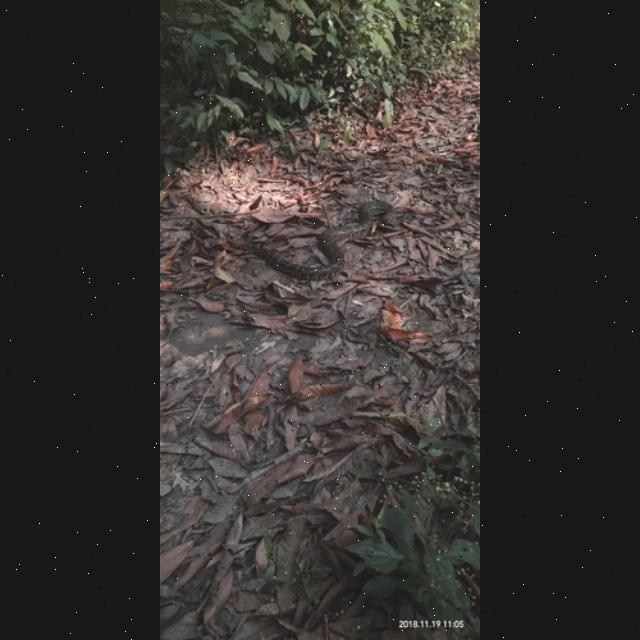snake: (249, 208, 353, 294)
